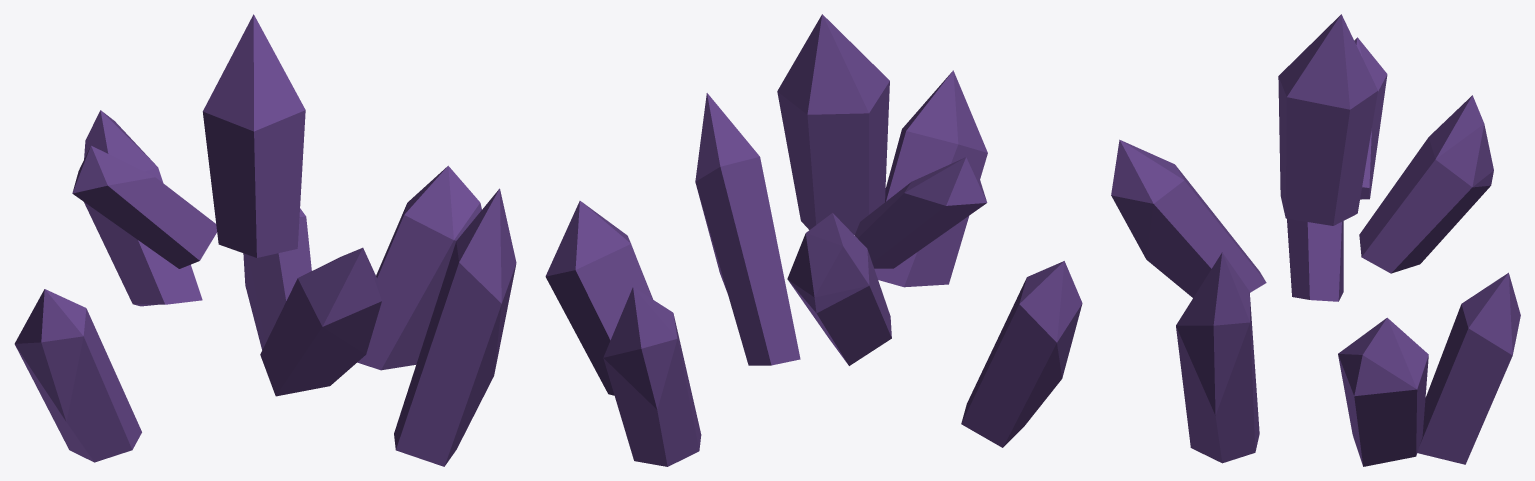
File: CrystalOreA.fbx
The picture shows the model from 3 angles, left to right: view 1: azimuth 30°, elevation 25°; view 2: azimuth 150°, elevation 25°; view 3: azimuth 270°, elevation 25°; orthographic projection. The views are drawn at different scales.
Parts seen in each view (by area): view 1: CrystalOreA; view 2: CrystalOreA; view 3: CrystalOreA.
Part boxes in pixels (x1,y1,x2,y2): CrystalOreA: (14, 14, 516, 466); CrystalOreA: (545, 14, 1082, 466); CrystalOreA: (1111, 14, 1520, 466).
Size of the model in its own units: 58.25 by 49.81 by 46.7.
